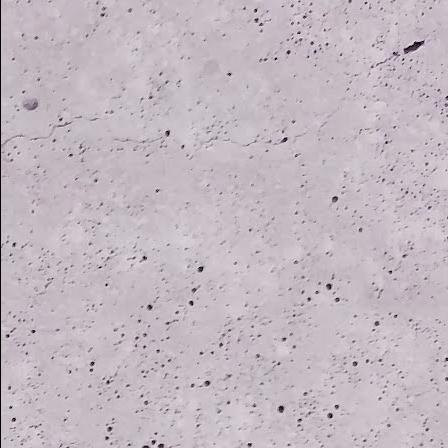crack: (291, 8, 436, 168), (0, 110, 165, 149), (183, 119, 314, 161)
